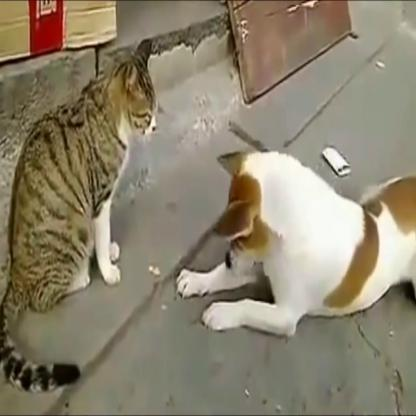cat: (0, 18, 163, 397)
dog: (172, 147, 416, 364)
